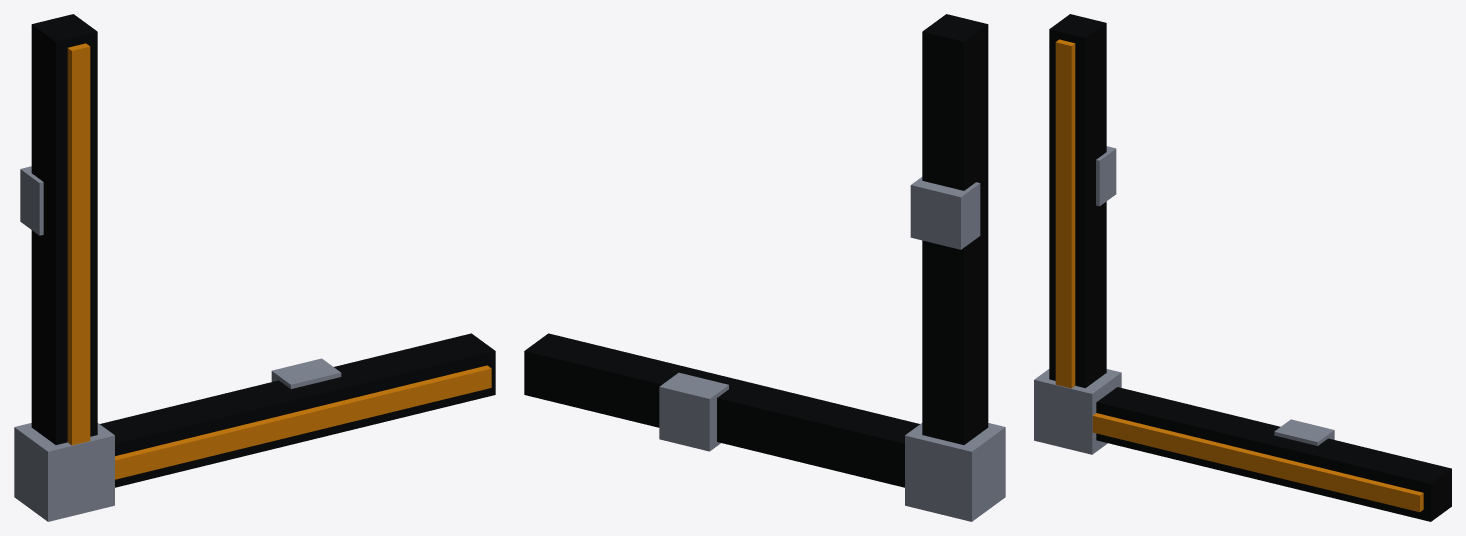
File: SM_Cable_Corner_Yellow.glb
The picture shows the model from 3 angles, left to right: view 1: azimuth 30°, elevation 25°; view 2: azimuth 150°, elevation 25°; view 3: azimuth 330°, elevation 25°; orthographic projection. The views are drawn at different scales.
Visible parts, largest first — view 1: SM_Cable_Corner_Yellow; view 2: SM_Cable_Corner_Yellow; view 3: SM_Cable_Corner_Yellow.
Boxes of the visible parts, x1=… form: SM_Cable_Corner_Yellow: x1=14, y1=14, x2=495, y2=521; SM_Cable_Corner_Yellow: x1=524, y1=14, x2=1005, y2=521; SM_Cable_Corner_Yellow: x1=1034, y1=14, x2=1451, y2=521.
Size of the model in its own units: 0.54 by 0.54 by 0.075.
